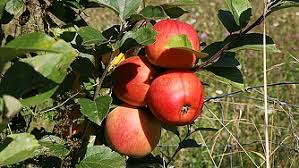apple: (105, 105, 163, 158), (150, 70, 202, 125), (148, 21, 201, 67), (115, 56, 158, 105)
